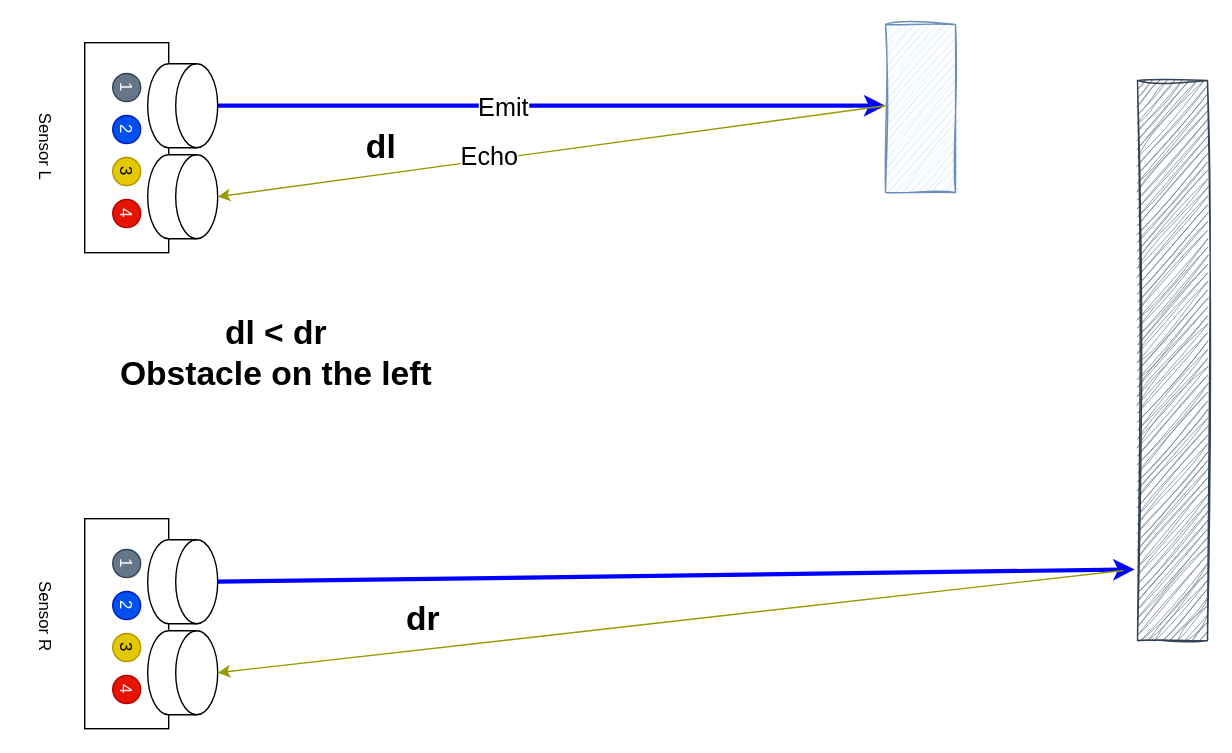
Some shapes in this 1232 by 753 pixel diagram are drawn without their labels. The centre of each missing label's shape, as x and y in pixels:
Left Obstacle: [919,107]
Wall: [1172,359]
